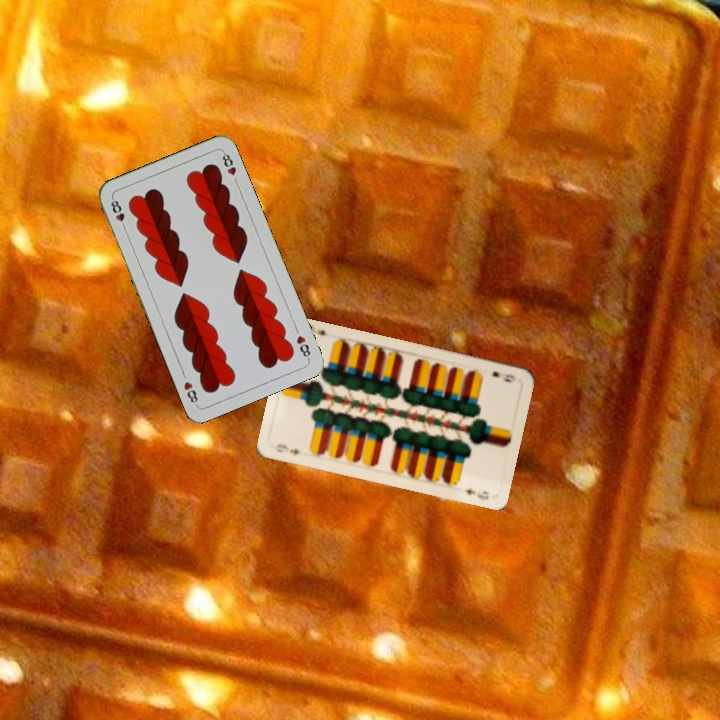E9: (488, 367, 518, 385), (273, 440, 303, 457)
H8: (107, 194, 129, 233), (291, 331, 313, 362)
